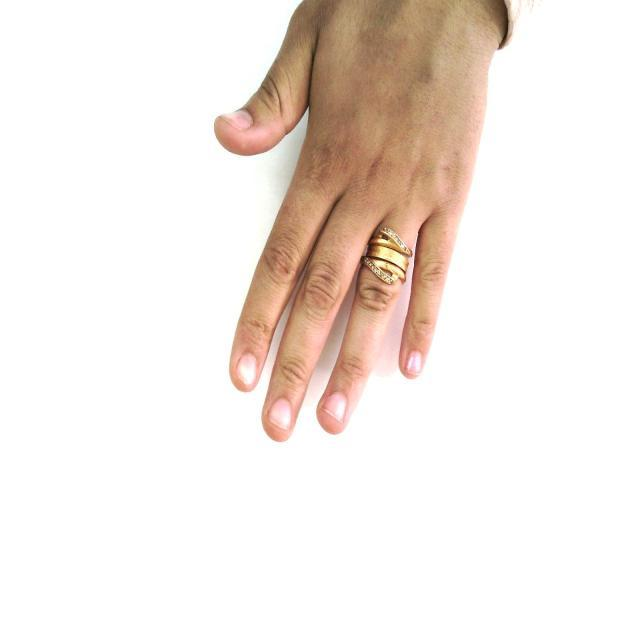Fingernail: (220, 109, 252, 130), (271, 399, 291, 429), (239, 355, 257, 383), (325, 393, 345, 418), (407, 352, 421, 374)
